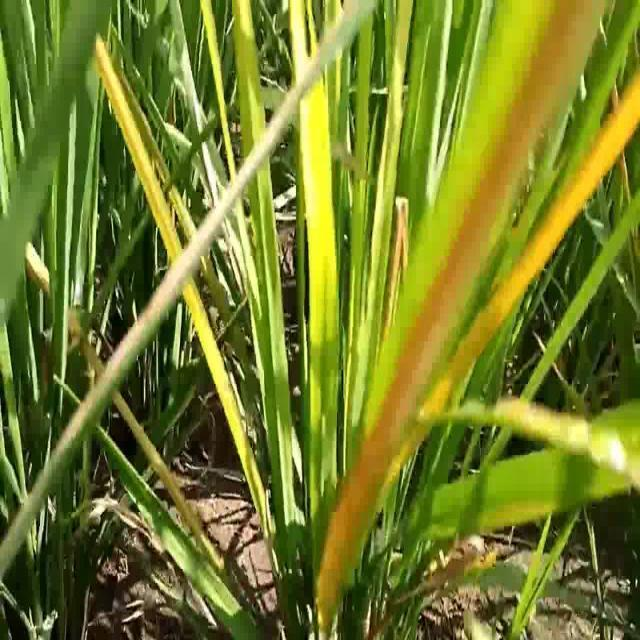Rice Tungro: (366, 11, 606, 481), (440, 65, 638, 411), (88, 32, 224, 400), (294, 50, 342, 306)
